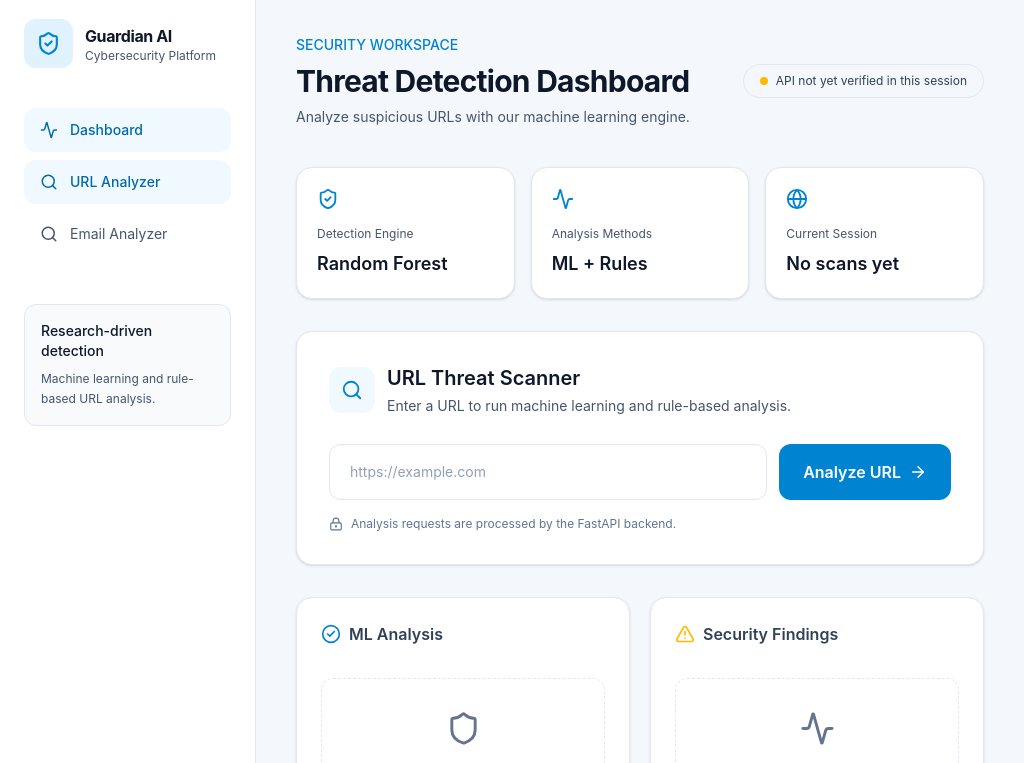
Test: Guardian AI API integration › displays a flagged ML result and security findings
Type "http://example.com/login" into the field named "URL to analyze" at (548, 472), box 329,444 -> 767,500
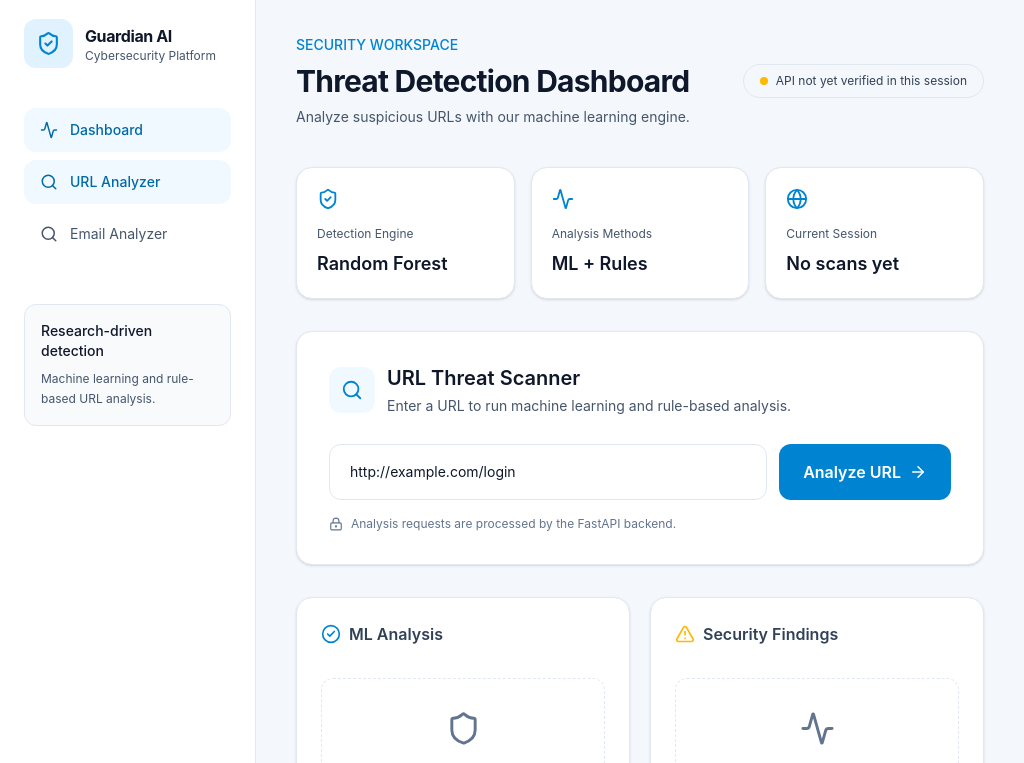
Click the button "Analyze URL" at (865, 472), box 779,444 -> 951,500
(page scrolled)
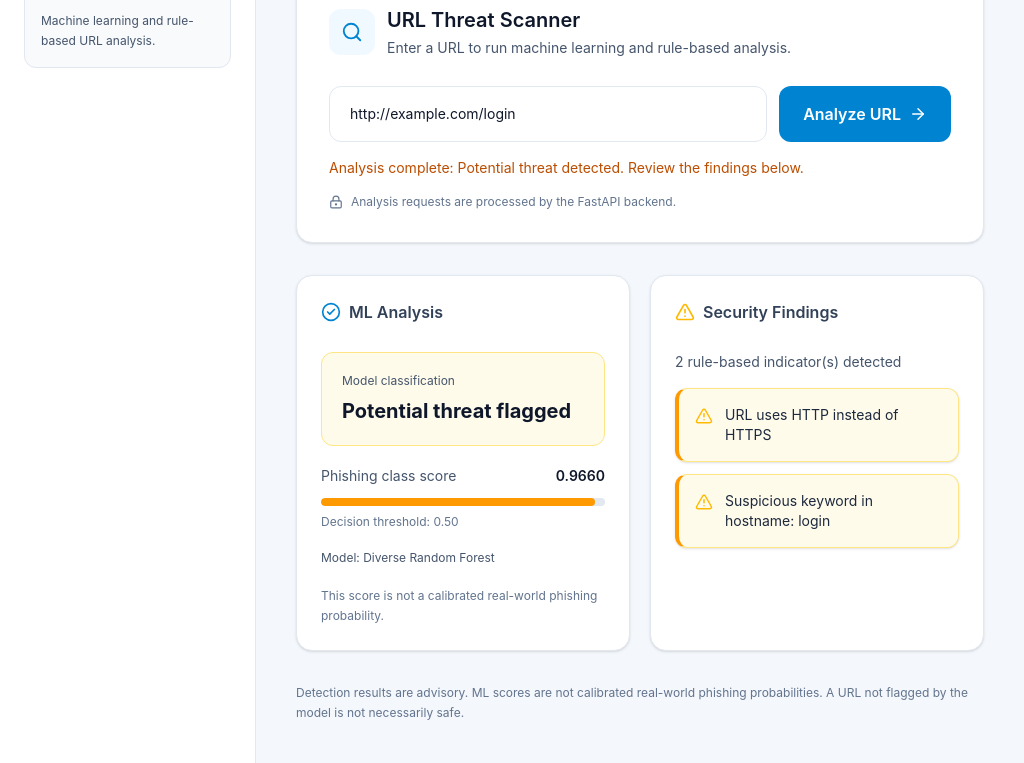
Expected: the text "Potential threat flagged" is shown, 342,397 -> 584,425
Expected: the text "0.9660" is shown, 556,466 -> 605,486
Expected: the text "URL uses HTTP instead of HTTPS" is shown, 725,406 -> 898,443
